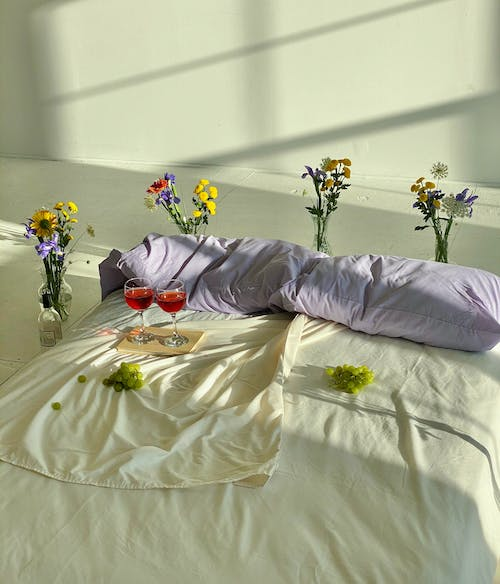alcohol: (156, 277, 189, 349), (123, 275, 155, 346)
